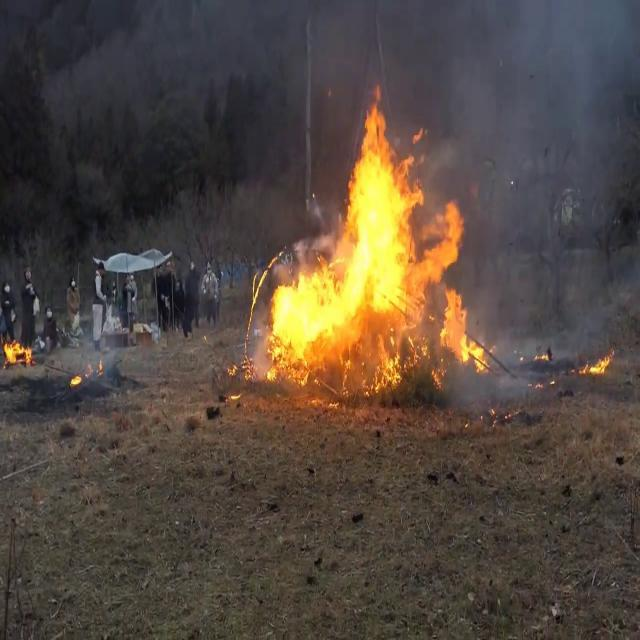Fire: (255, 92, 490, 387), (576, 344, 618, 381), (2, 332, 34, 366), (68, 368, 84, 390)
Smoke: (400, 0, 638, 347)
